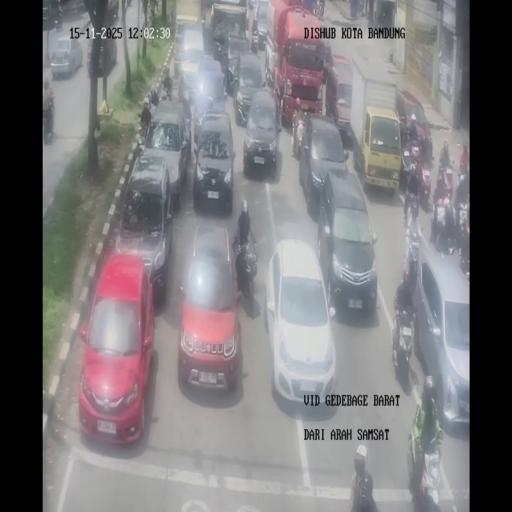3: (266, 0, 327, 129), (209, 3, 248, 79), (59, 0, 86, 18)
car: (78, 252, 155, 444), (264, 240, 335, 407), (411, 236, 468, 427), (176, 224, 240, 392), (139, 103, 190, 203), (300, 113, 348, 218), (192, 112, 236, 212), (362, 106, 402, 194), (234, 56, 266, 127), (193, 55, 227, 118), (330, 56, 354, 141), (174, 16, 203, 82), (86, 32, 118, 76), (49, 37, 83, 78), (251, 1, 271, 51), (201, 19, 216, 56), (104, 0, 120, 22)
truck: (408, 417, 442, 509), (391, 303, 414, 381), (234, 244, 256, 309), (402, 222, 421, 288), (434, 221, 458, 257), (403, 180, 419, 224), (458, 234, 470, 286), (433, 172, 450, 206), (456, 193, 469, 237), (398, 142, 410, 188), (42, 99, 54, 143), (420, 130, 433, 165), (145, 87, 159, 117), (272, 94, 282, 135), (296, 120, 306, 160), (139, 111, 152, 141), (183, 110, 193, 148), (399, 114, 410, 146), (439, 140, 451, 168), (458, 156, 470, 181), (161, 80, 173, 102), (182, 87, 191, 114), (55, 11, 63, 32), (358, 0, 365, 18), (170, 6, 175, 31)
